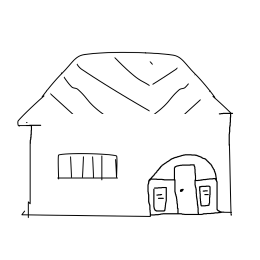closed_window: (51, 149, 136, 183)
door: (142, 150, 226, 222)
roof: (17, 44, 233, 135)
wall: (21, 111, 236, 225)
